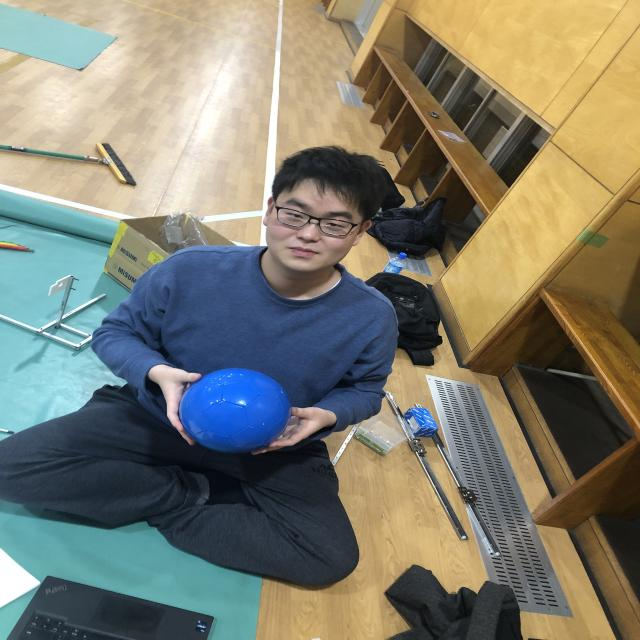blue_ball: (176, 369, 296, 457)
